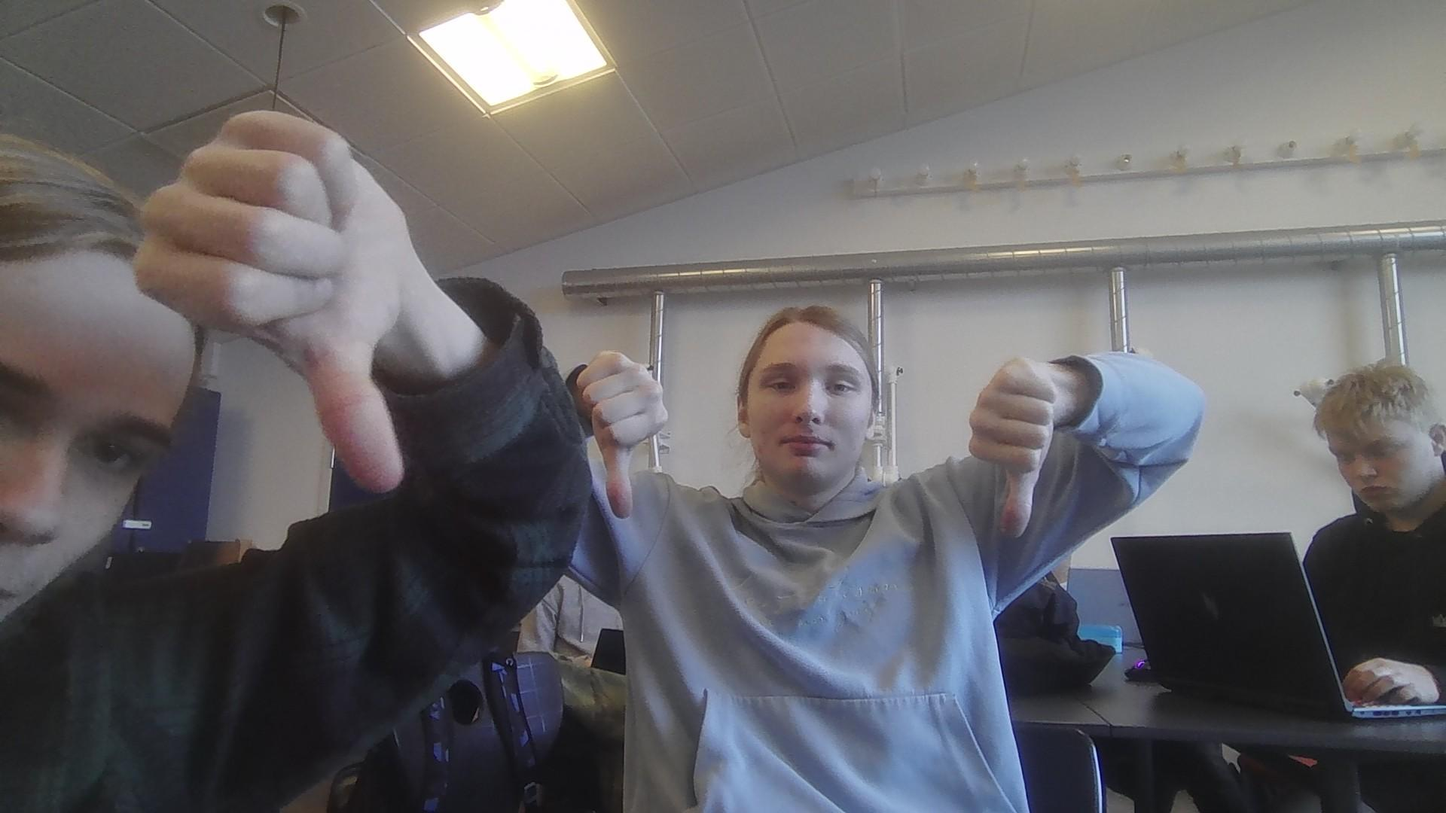thumbs down: (132, 102, 426, 492), (960, 346, 1064, 539), (569, 341, 674, 527)
